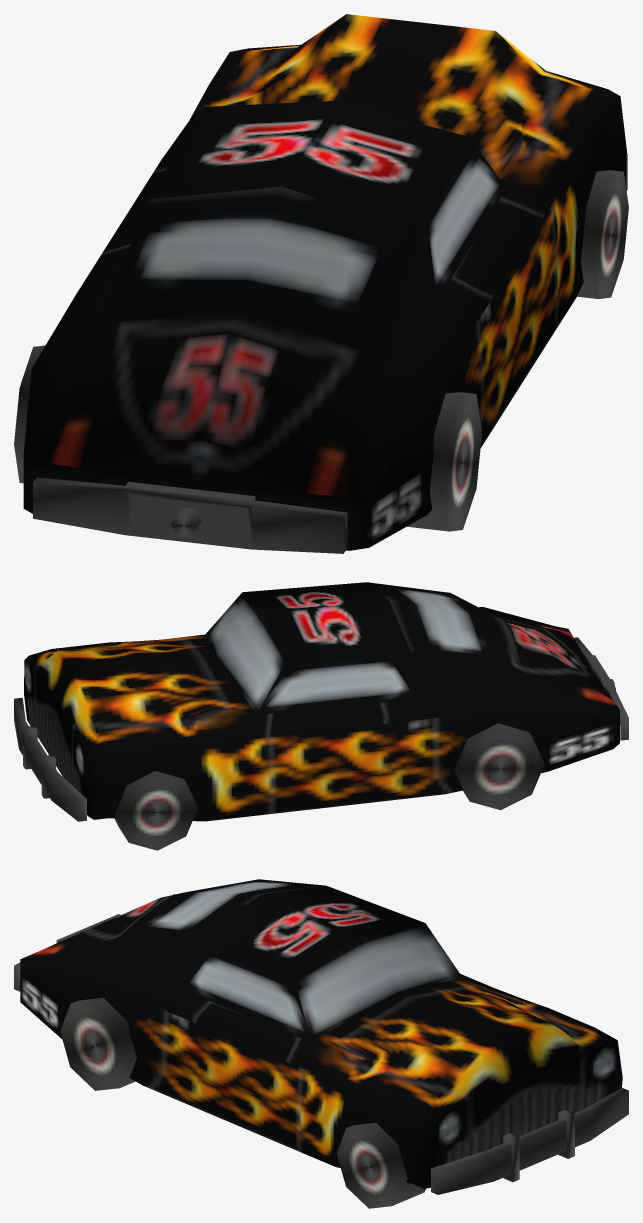
The model's file is D_SYSTEM.ICO.obj.
3 renders of one model, top to bottom at view 1: azimuth 30°, elevation 25°; view 2: azimuth 150°, elevation 25°; view 3: azimuth 270°, elevation 25°, orthographic. The views are drawn at different scales.
Bounding box in the file's own units: 4.49 × 1.45 × 4.48.
1 material, 1 textured.
